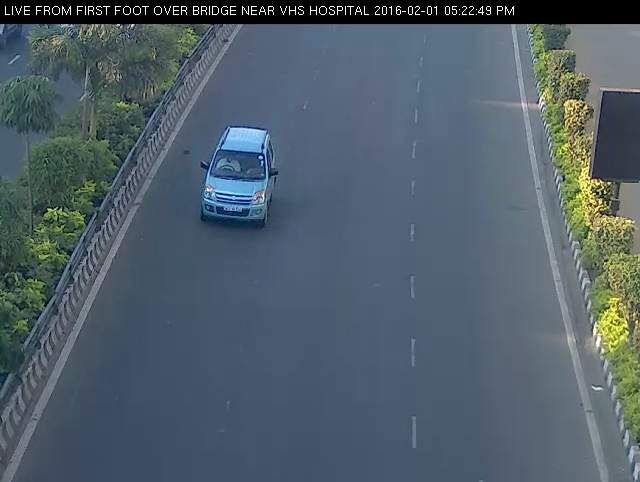Car: (189, 112, 289, 243)
